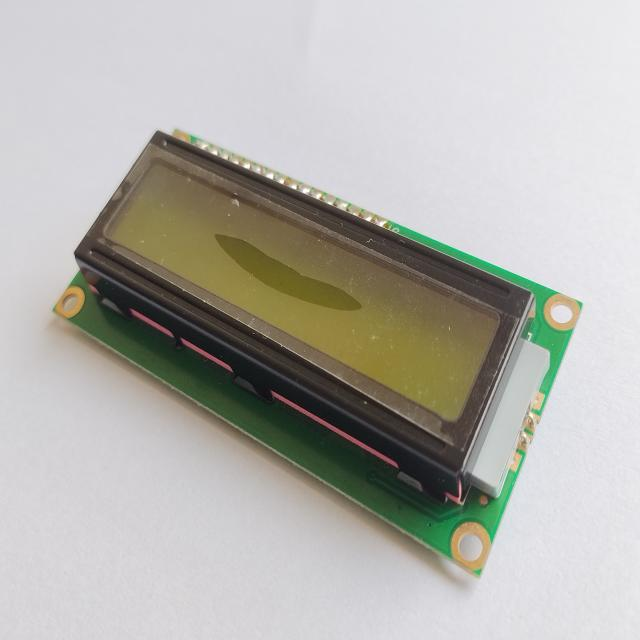lcd: (41, 113, 595, 588)
